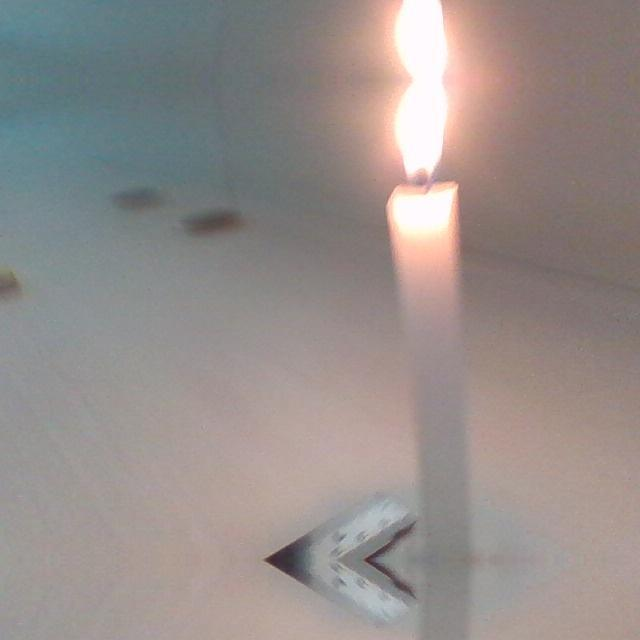fire: (394, 0, 454, 178)
